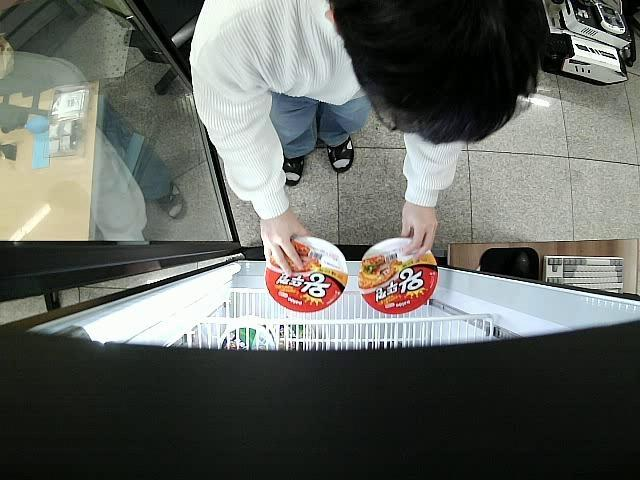10_wangTtukkeong: (264, 236, 347, 314), (360, 238, 438, 315)
